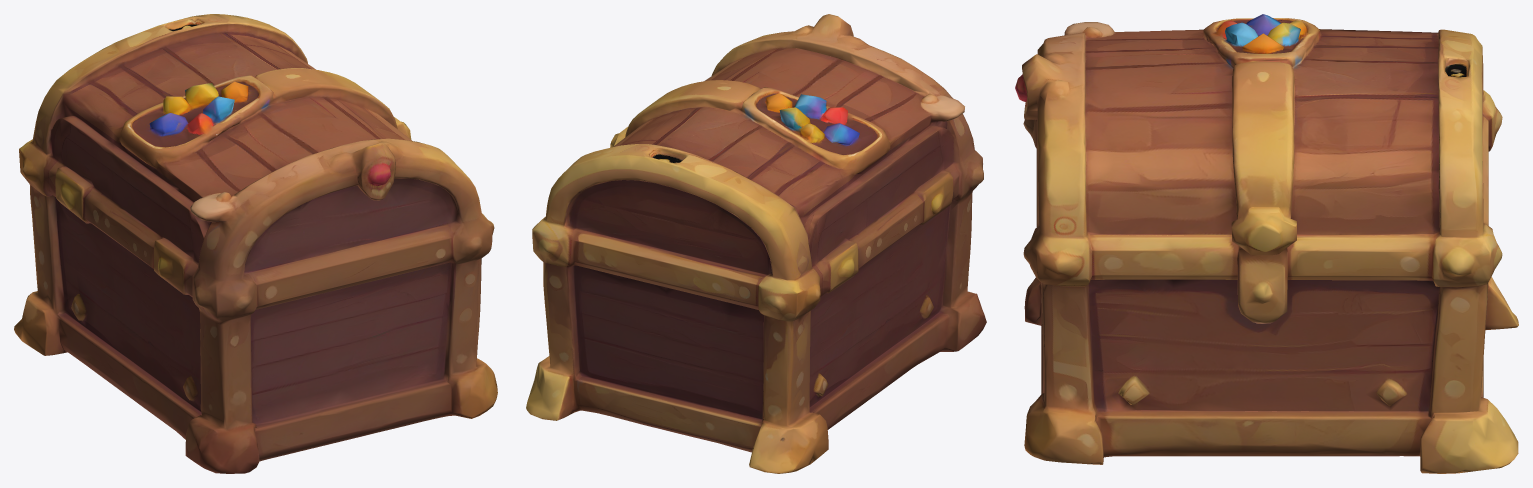
Rendered from schatztruhe.glb.
3 views of the same model, side by side, from view 1: azimuth 30°, elevation 25°; view 2: azimuth 150°, elevation 25°; view 3: azimuth 270°, elevation 25° (orthographic). The views are drawn at different scales.
Parts seen in each view (by area): view 1: tripo_node_86a82ae1-2894-48a6-b9f5-000b3fc248f3; view 2: tripo_node_86a82ae1-2894-48a6-b9f5-000b3fc248f3; view 3: tripo_node_86a82ae1-2894-48a6-b9f5-000b3fc248f3.
Boxes of the visible parts, x1,y1,x2,y2 form: tripo_node_86a82ae1-2894-48a6-b9f5-000b3fc248f3: (14, 14, 497, 473); tripo_node_86a82ae1-2894-48a6-b9f5-000b3fc248f3: (526, 14, 986, 473); tripo_node_86a82ae1-2894-48a6-b9f5-000b3fc248f3: (1015, 14, 1518, 473).
Size of the model in its own units: 0.7868 by 0.7627 by 1.
1 material, 1 textured.
